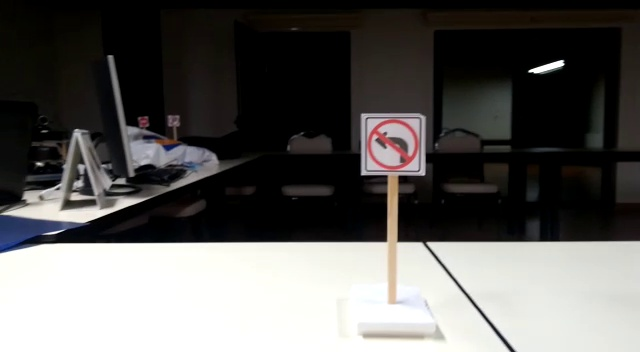sola_donulmez: (364, 120, 425, 175)
